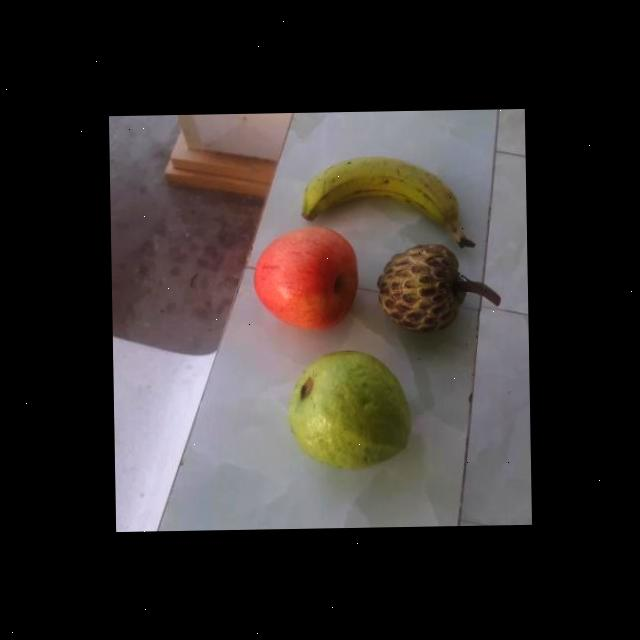Sakya fruit: (371, 242, 471, 333)
apple: (250, 224, 364, 330)
banana: (296, 151, 474, 229)
guava: (282, 350, 409, 468)
